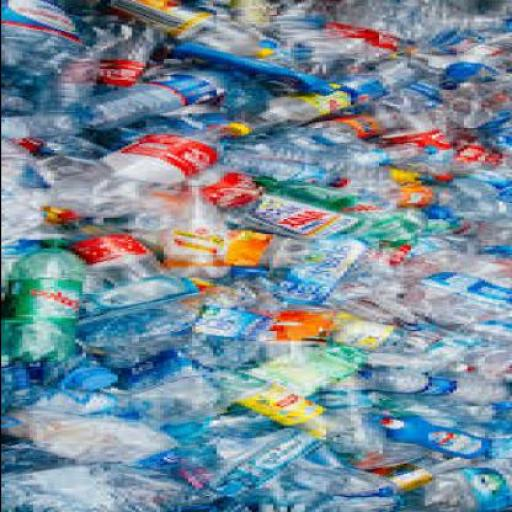plastic: (2, 1, 511, 512), (4, 376, 257, 468), (42, 131, 247, 220), (218, 58, 428, 138), (202, 178, 431, 249), (173, 417, 346, 496), (329, 1, 501, 69), (85, 2, 279, 60), (53, 212, 183, 298), (173, 271, 282, 369), (2, 466, 234, 511), (4, 240, 85, 364), (85, 70, 240, 131), (212, 456, 382, 506), (159, 182, 236, 291), (410, 246, 511, 329), (250, 160, 410, 212), (339, 247, 473, 309), (216, 377, 354, 437), (350, 304, 484, 364), (3, 1, 92, 90), (236, 438, 344, 511), (233, 469, 406, 511), (89, 303, 204, 365), (367, 394, 511, 443), (272, 234, 370, 305), (240, 347, 374, 396), (53, 118, 198, 160), (24, 347, 126, 406), (383, 465, 511, 512), (378, 325, 511, 370), (173, 76, 279, 132), (359, 371, 511, 406), (32, 42, 98, 119), (382, 418, 497, 462), (364, 454, 484, 496), (244, 119, 389, 153), (96, 24, 170, 88), (279, 1, 343, 75), (364, 78, 448, 131), (229, 156, 357, 190), (230, 232, 342, 270), (237, 142, 353, 174), (445, 77, 511, 131), (392, 128, 458, 182), (438, 37, 502, 91), (4, 365, 53, 431), (325, 316, 406, 354), (64, 12, 138, 51), (4, 144, 53, 194), (230, 1, 286, 43), (191, 278, 257, 310), (431, 198, 511, 224), (67, 369, 124, 405), (201, 178, 265, 207), (4, 194, 46, 236), (282, 313, 336, 344), (4, 90, 36, 141), (434, 178, 501, 201), (458, 143, 506, 175), (32, 117, 89, 141), (465, 222, 511, 251), (385, 146, 441, 168), (293, 302, 349, 318), (378, 244, 413, 269), (3, 138, 50, 154), (472, 172, 510, 191), (406, 188, 438, 210), (4, 410, 28, 432), (230, 64, 262, 80), (448, 225, 480, 240), (491, 440, 511, 462), (229, 124, 258, 138), (381, 419, 410, 433), (22, 142, 46, 158), (46, 240, 75, 249), (438, 175, 463, 184), (64, 212, 84, 222), (448, 368, 480, 374), (258, 50, 275, 60), (430, 147, 446, 156), (357, 373, 374, 381), (342, 181, 357, 188)
